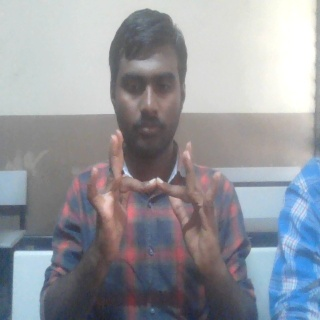Internet: (79, 127, 231, 271)
